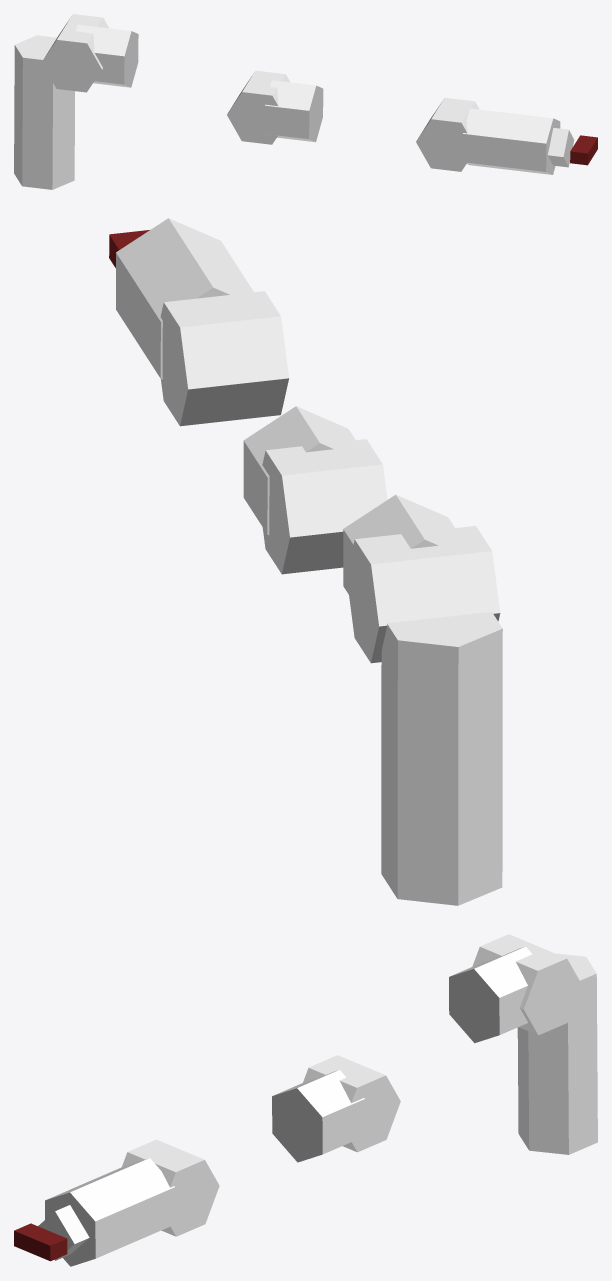
File: baxter_arm.right.rounded.dae
3 views of the same model, one above another, from view 1: azimuth 30°, elevation 25°; view 2: azimuth 150°, elevation 25°; view 3: azimuth 270°, elevation 25° (orthographic). The views are drawn at different scales.
Visible parts, largest first — view 1: right_upper_shoulder, right_wrist, right_lower_shoulder, right_upper_forearm, right_lower_forearm, right_lower_elbow, right_upper_elbow, right_hand, right_gripper; view 2: right_upper_shoulder, right_lower_forearm, right_lower_shoulder, right_lower_elbow, right_wrist, right_upper_forearm, right_upper_elbow; view 3: right_upper_shoulder, right_wrist, right_upper_forearm, right_upper_elbow, right_lower_shoulder, right_lower_forearm, right_lower_elbow, right_gripper, right_hand.
Boxes of the visible parts, box(x1,y1,x2,y2) form: right_upper_shoulder: box(14, 35, 74, 189); right_wrist: box(462, 108, 560, 174); right_lower_shoulder: box(41, 14, 108, 92); right_upper_forearm: box(264, 80, 323, 142); right_lower_forearm: box(416, 97, 479, 171); right_lower_elbow: box(227, 70, 289, 144); right_upper_elbow: box(76, 24, 138, 87); right_hand: box(548, 128, 574, 167); right_gripper: box(570, 135, 597, 165); right_upper_shoulder: box(381, 612, 502, 905); right_lower_forearm: box(160, 291, 289, 426); right_lower_shoulder: box(346, 526, 500, 663); right_lower_elbow: box(262, 439, 387, 574); right_wrist: box(116, 218, 253, 379); right_upper_forearm: box(243, 406, 355, 534); right_upper_elbow: box(343, 494, 454, 594); right_upper_shoulder: box(517, 953, 597, 1154); right_wrist: box(45, 1158, 175, 1266); right_upper_forearm: box(272, 1070, 365, 1162); right_upper_elbow: box(449, 946, 532, 1043); right_lower_shoulder: box(472, 934, 581, 1035); right_lower_forearm: box(122, 1139, 219, 1236); right_lower_elbow: box(303, 1055, 400, 1152); right_gripper: box(14, 1223, 67, 1261); right_hand: box(38, 1205, 89, 1260).
Bounding box in the file's own units: 0.8529 × 0.8518 × 0.3303.
